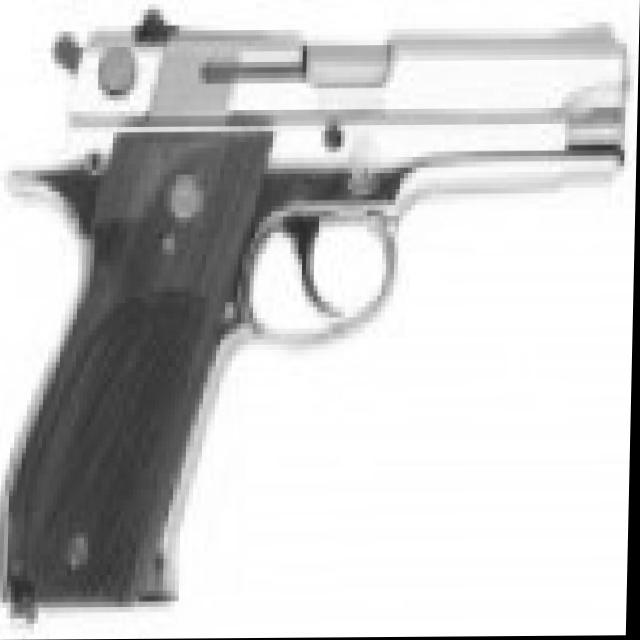handgun: (0, 0, 624, 613)
